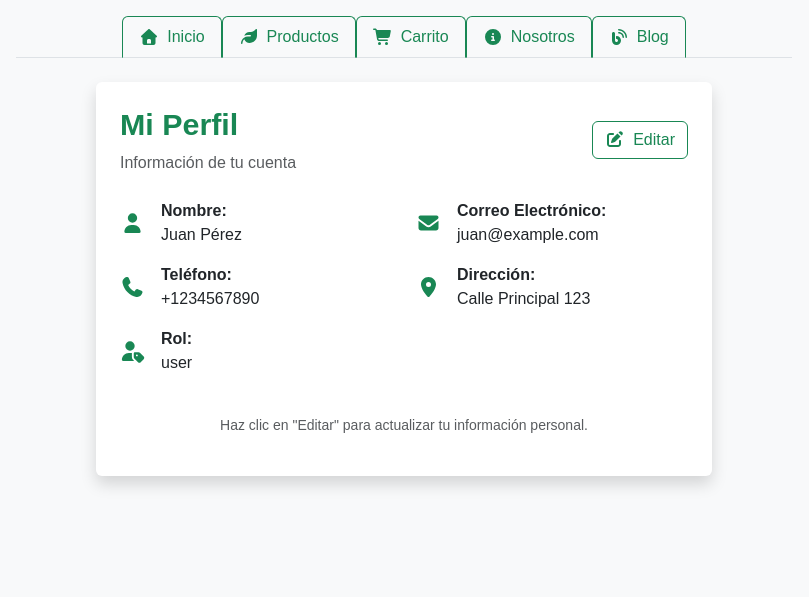
Test: Profile Component › Authenticated user › Edit mode › should validate email format
This screenshot has width=809, height=597.
Enter edit mode
Click the button "Editar" at point(640, 140), box [592,121,688,159]
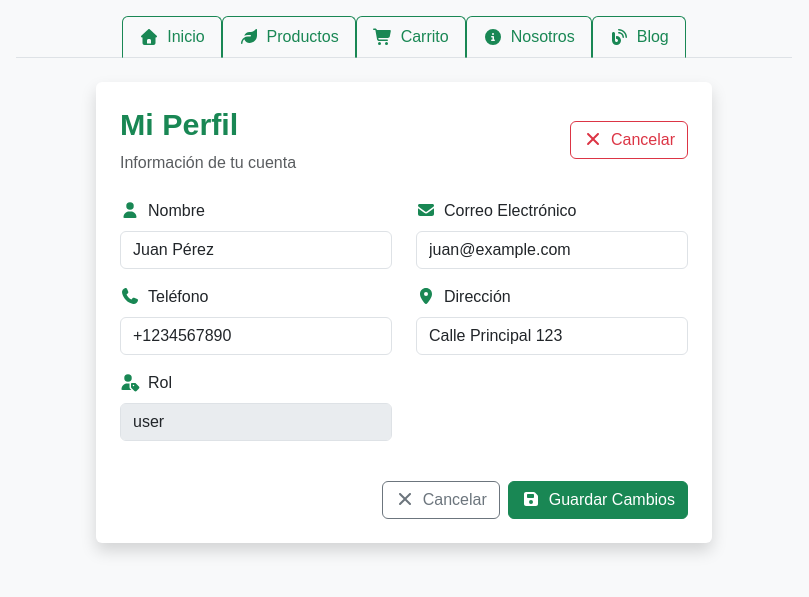
Enter invalid email
Replace the text in the field showing "juan@example.com" below "Correo Electrónico" with "invalid-email" at point(552, 250), box [416,230,688,268]
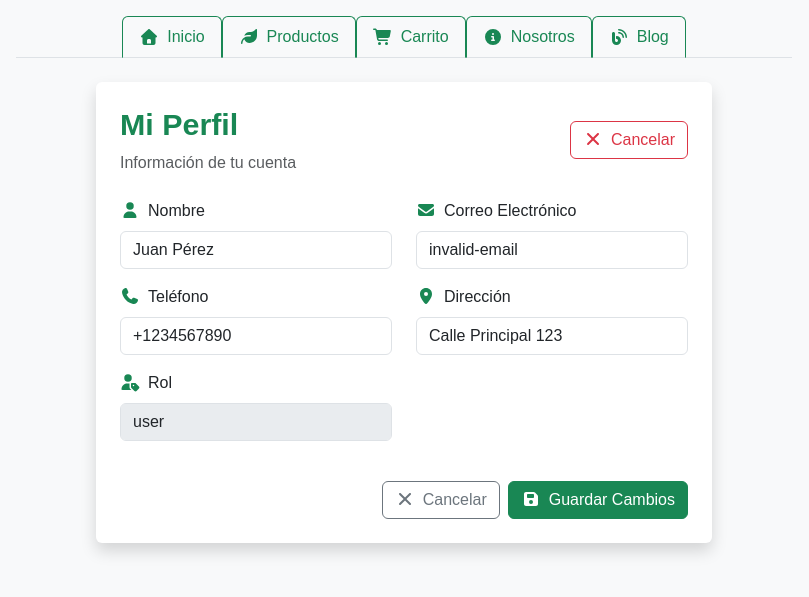
Try to save
Click the button "Guardar Cambios" at point(598, 500), box [508,480,688,518]
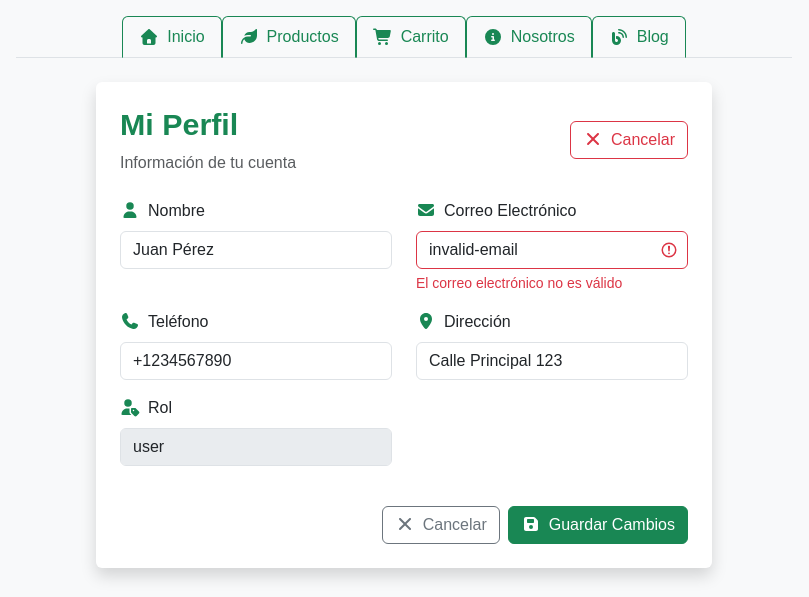
Expected: the text "El correo electrónico no es válido" is shown, [416,274,622,290]
